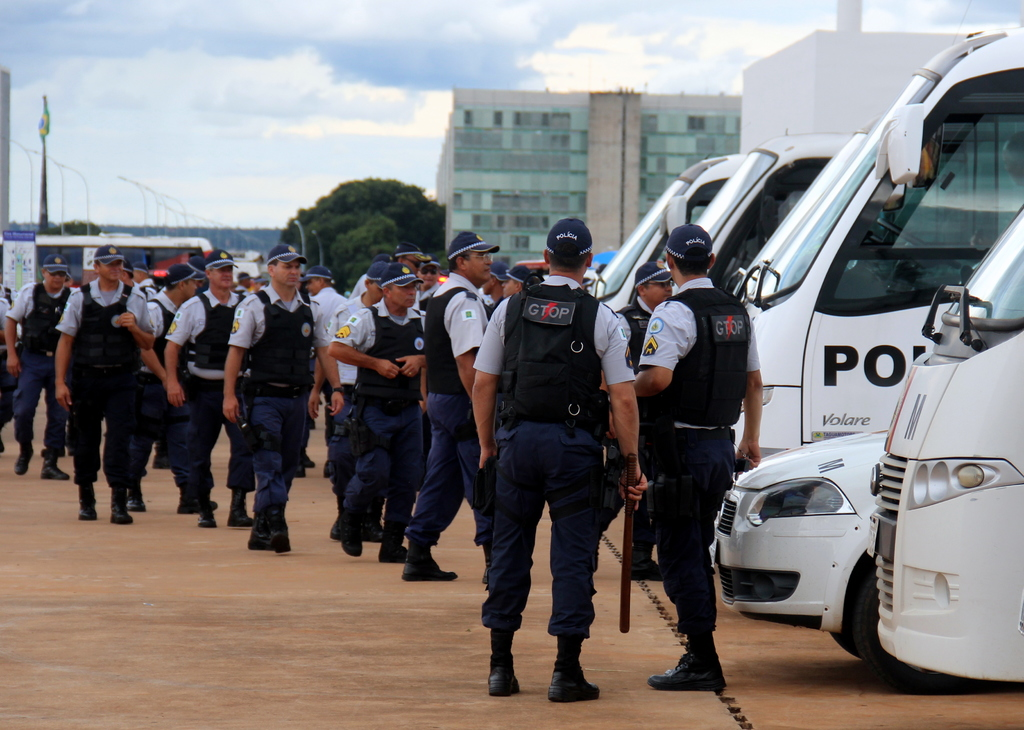Car: (720, 451, 921, 656)
